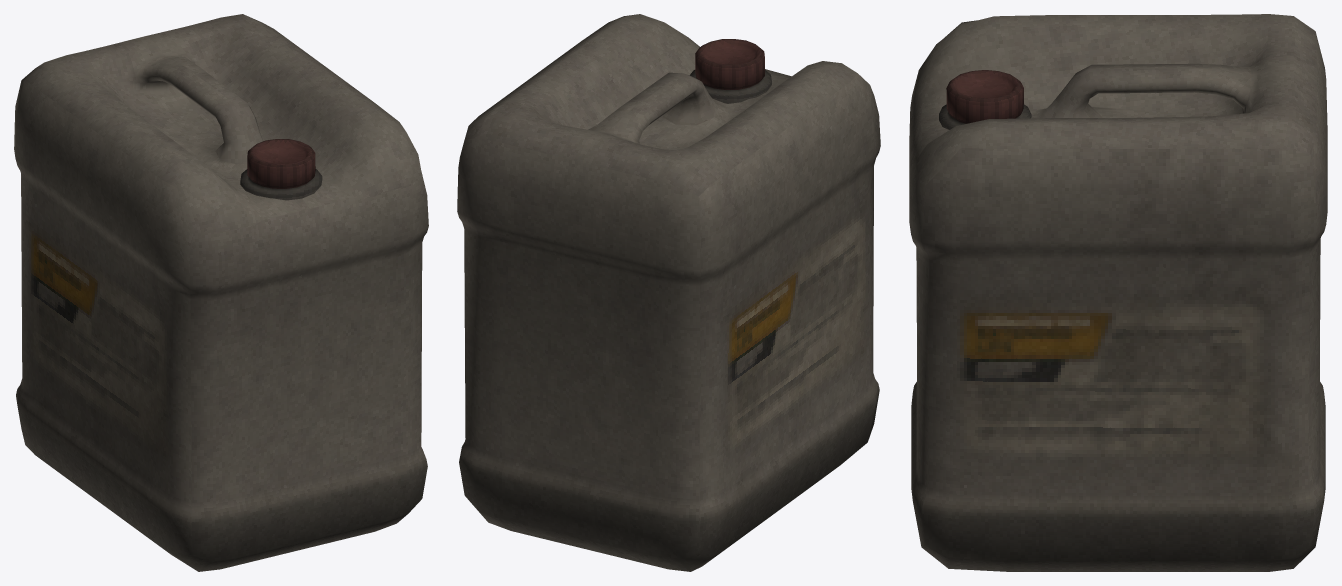
File: jerrycan_1.glb
3 renders of one model, left to right at view 1: azimuth 30°, elevation 25°; view 2: azimuth 150°, elevation 25°; view 3: azimuth 270°, elevation 25°, orthographic. The views are drawn at different scales.
Visible parts, largest first — view 1: jerrycan_1; view 2: jerrycan_1; view 3: jerrycan_1.
Part boxes in pixels (x1,y1,x2,y2): jerrycan_1: [14, 14, 428, 571]; jerrycan_1: [457, 14, 880, 571]; jerrycan_1: [909, 14, 1327, 571].
Bounding box in the file's own units: 0.3364 × 0.503 × 0.4205.
Materials: 1 (1 with a texture image).
